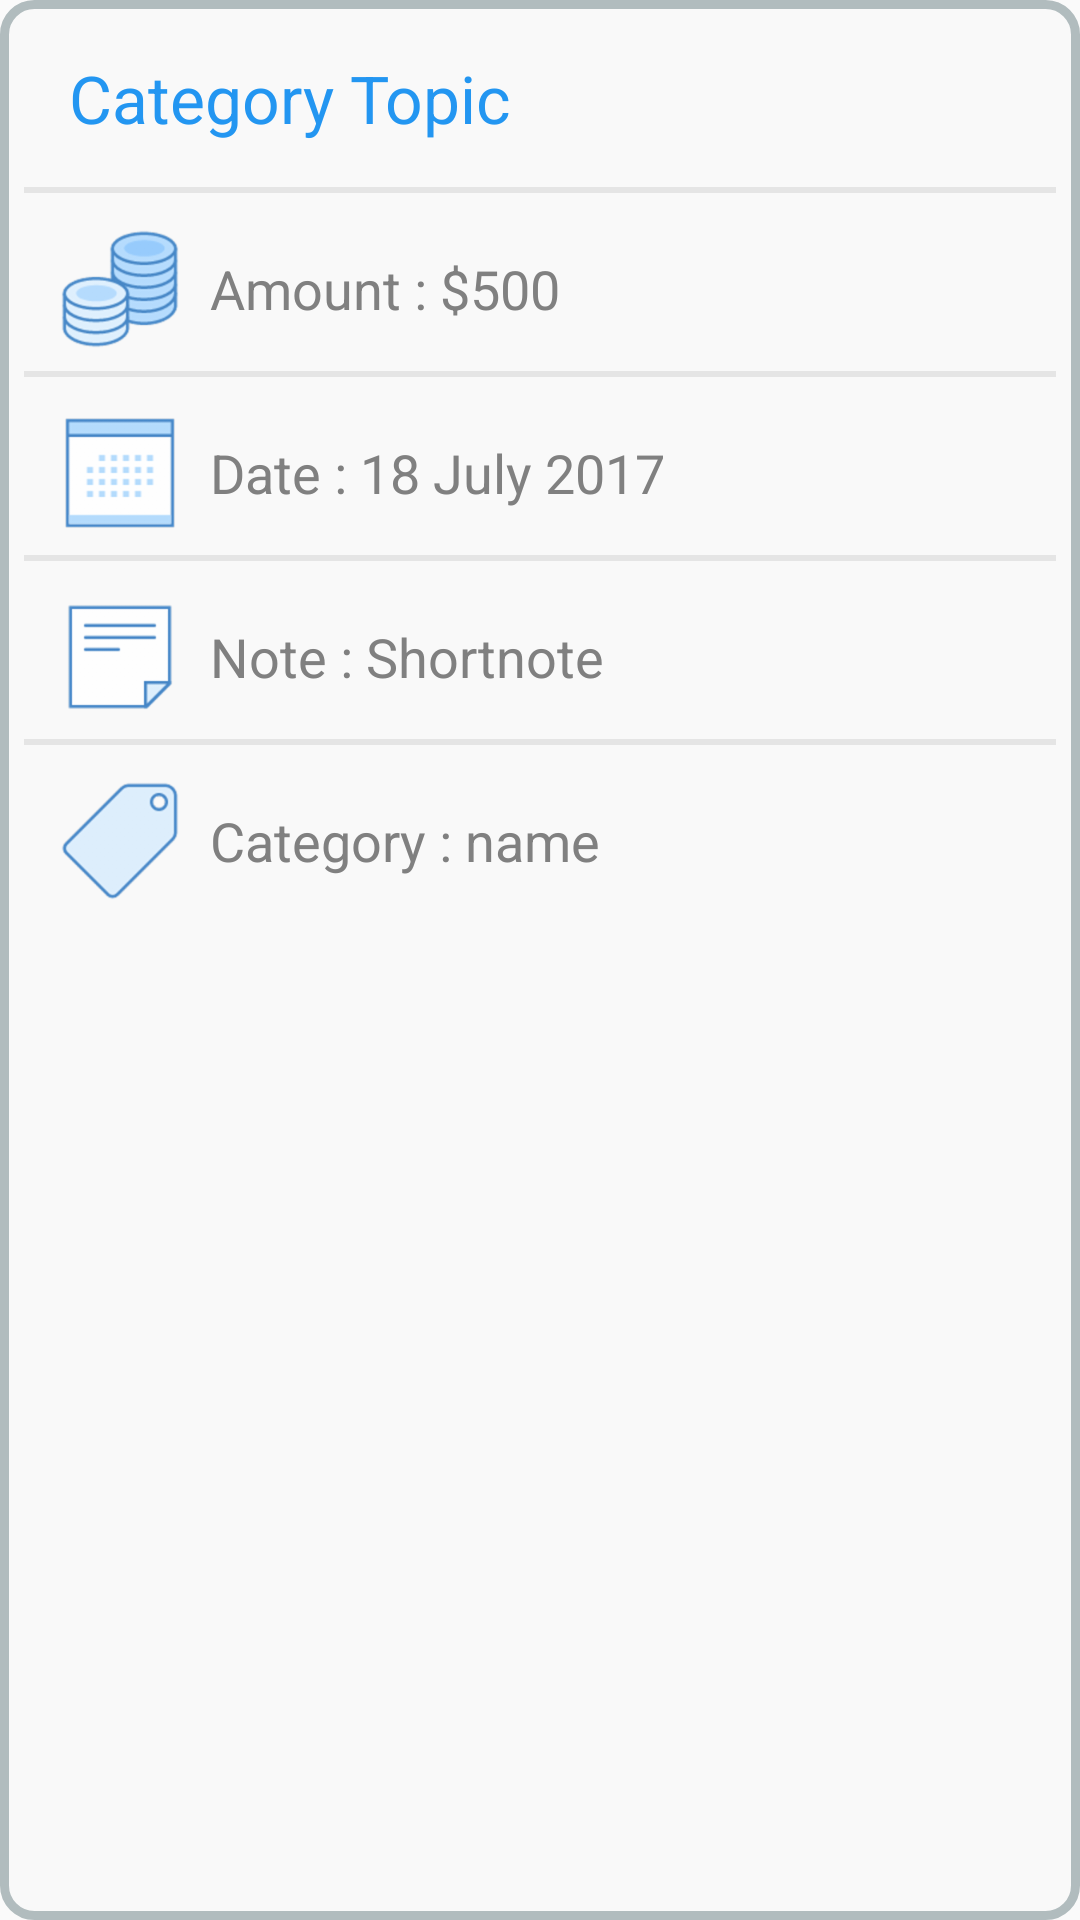

Where to tap for icons on this 1080px x 1920px app screen, as (x=x, y=y):
calendar: (x=120, y=473)
coins: (x=120, y=289)
tag: (x=120, y=841)
